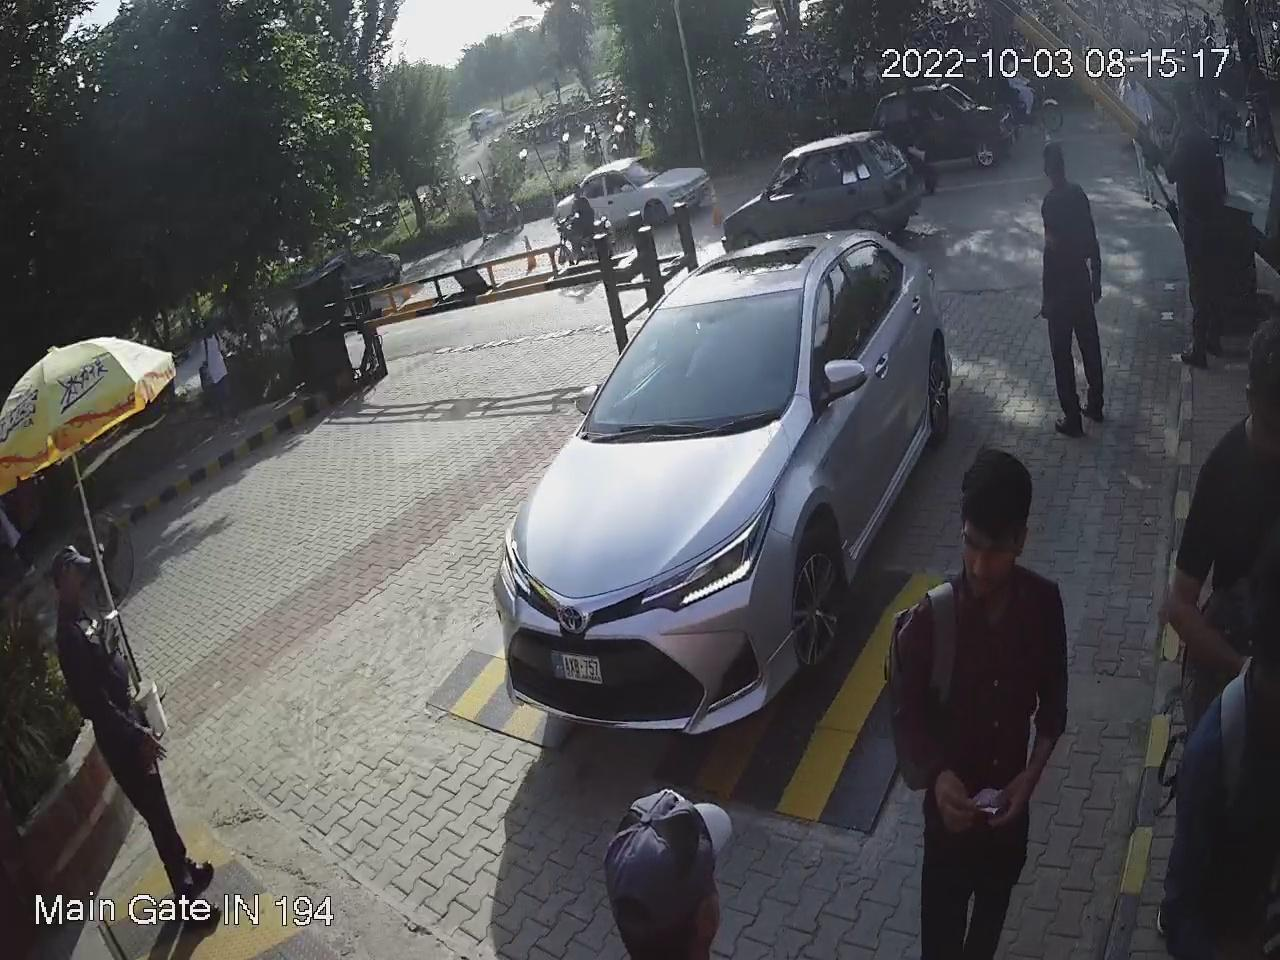windshield: (588, 275, 810, 433)
